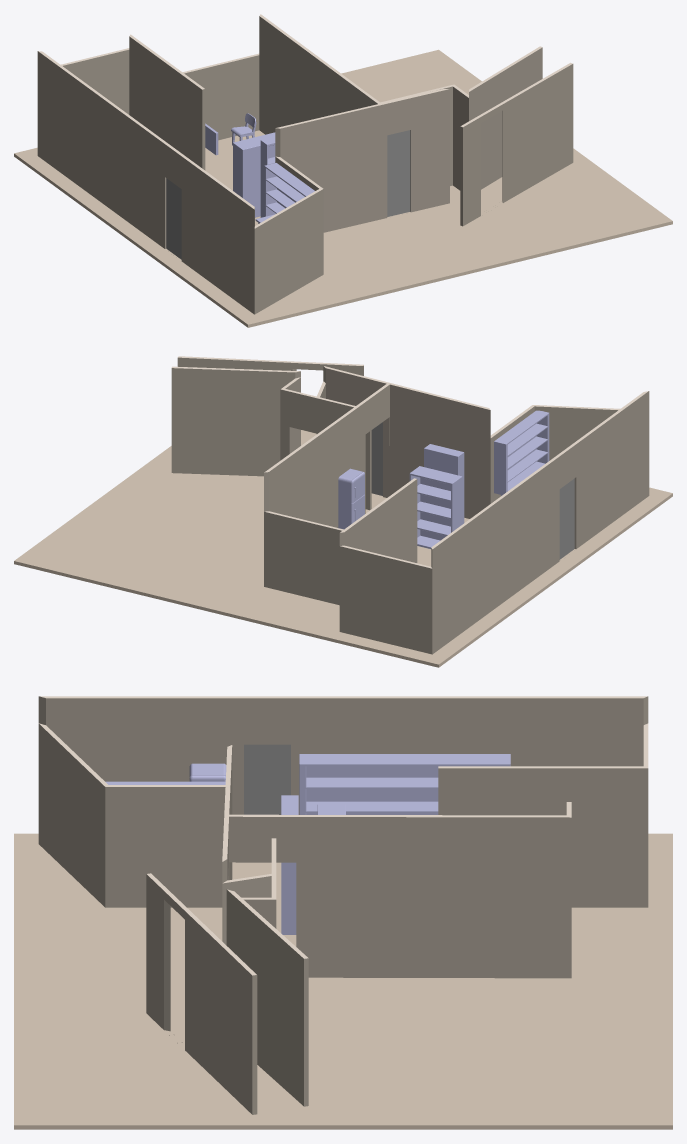
The model's file is Sep27at2-55PM-poly.fbx.
3 renders of one model, top to bottom at view 1: azimuth 30°, elevation 25°; view 2: azimuth 150°, elevation 25°; view 3: azimuth 270°, elevation 25°, orthographic. The views are drawn at different scales.
Parts seen in each view (by area): view 1: wall_11.wall_2.wall_1.wall_0.wall_10.wall_9.wall_3.wall_4.wa, floor_0, object_1.object_2.object_3.object_4.object_5.object_6.object, wall_13, door_0.door_1; view 2: wall_11.wall_2.wall_1.wall_0.wall_10.wall_9.wall_3.wall_4.wa, floor_0, object_1.object_2.object_3.object_4.object_5.object_6.object, wall_13, door_0.door_1; view 3: wall_11.wall_2.wall_1.wall_0.wall_10.wall_9.wall_3.wall_4.wa, floor_0, object_1.object_2.object_3.object_4.object_5.object_6.object, wall_13, door_0.door_1.
Part boxes in pixels (<box>): wall_11.wall_2.wall_1.wall_0.wall_10.wall_9.wall_3.wall_4.wa: <box>37,16,573,314</box>; floor_0: <box>14,49,672,327</box>; object_1.object_2.object_3.object_4.object_5.object_6.object: <box>205,113,314,223</box>; wall_13: <box>38,14,572,228</box>; door_0.door_1: <box>166,130,410,259</box>; wall_11.wall_2.wall_1.wall_0.wall_10.wall_9.wall_3.wall_4.wa: <box>171,357,649,654</box>; floor_0: <box>14,430,672,667</box>; object_1.object_2.object_3.object_4.object_5.object_6.object: <box>338,410,549,548</box>; wall_13: <box>171,356,648,568</box>; door_0.door_1: <box>371,422,574,559</box>; wall_11.wall_2.wall_1.wall_0.wall_10.wall_9.wall_3.wall_4.wa: <box>38,696,648,1114</box>; floor_0: <box>14,833,672,1129</box>; object_1.object_2.object_3.object_4.object_5.object_6.object: <box>105,754,510,934</box>; wall_13: <box>39,696,648,975</box>; door_0.door_1: <box>244,744,290,814</box>.
Size of the model in its own units: 14.07 by 3.72 by 13.43.
